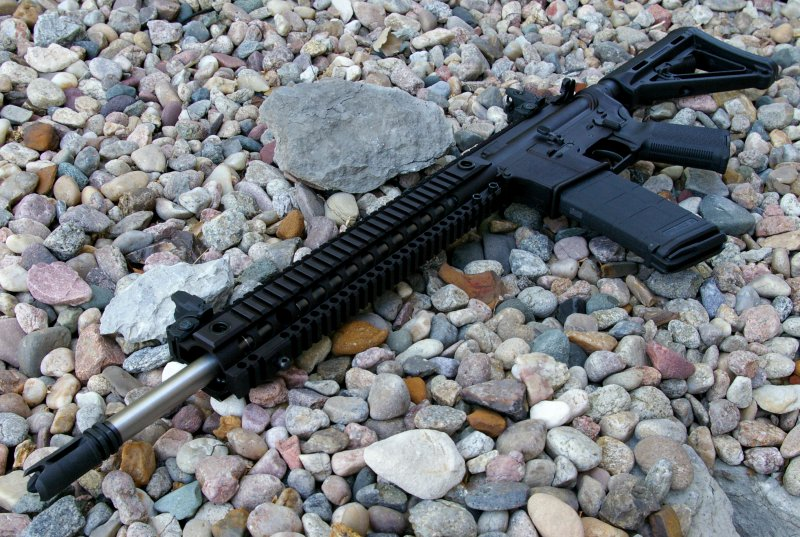Rifle: (20, 21, 781, 508)
